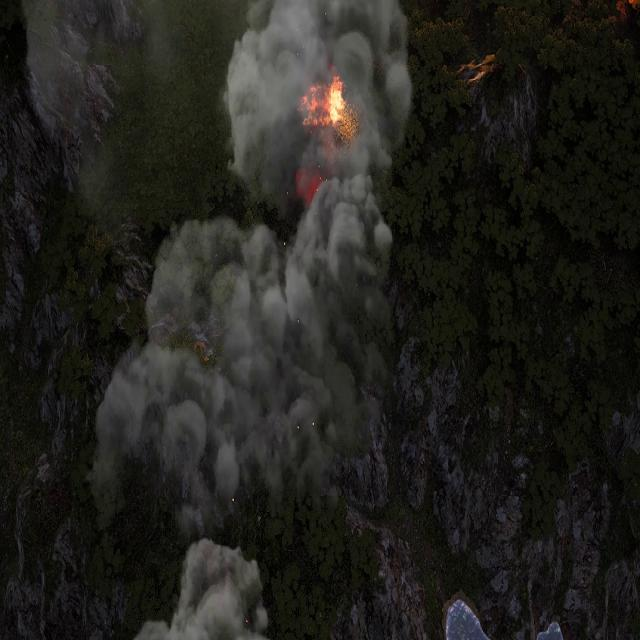fire: (302, 75, 350, 136)
smoke: (86, 0, 414, 640)
